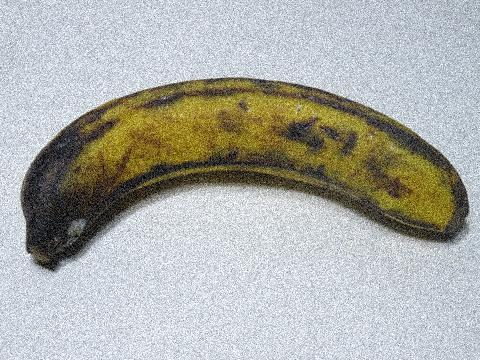overripe: (8, 59, 479, 283)
rotten: (3, 126, 146, 254)
